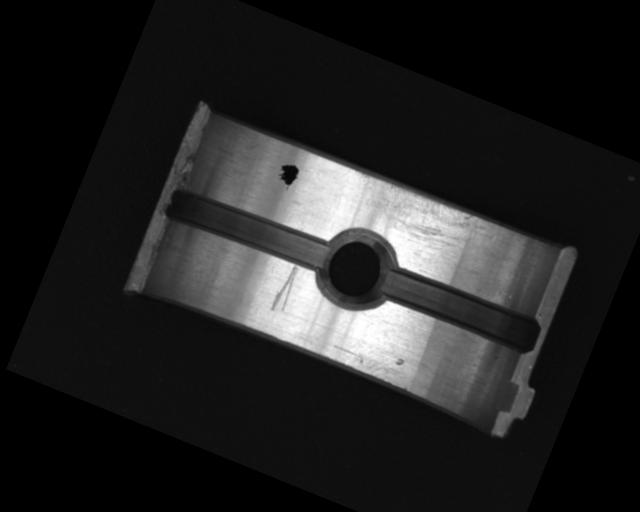blot: (271, 158, 303, 193)
bruise: (393, 356, 405, 367)
gap: (157, 177, 336, 284), (373, 260, 544, 360)
hole: (310, 220, 404, 318)
nick: (267, 260, 303, 316)
scratch: (339, 165, 503, 268)
